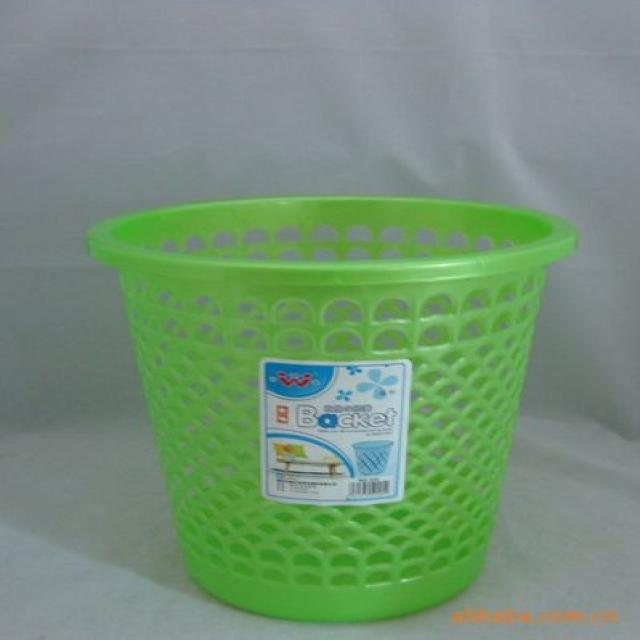dustbin: (77, 187, 583, 624)
